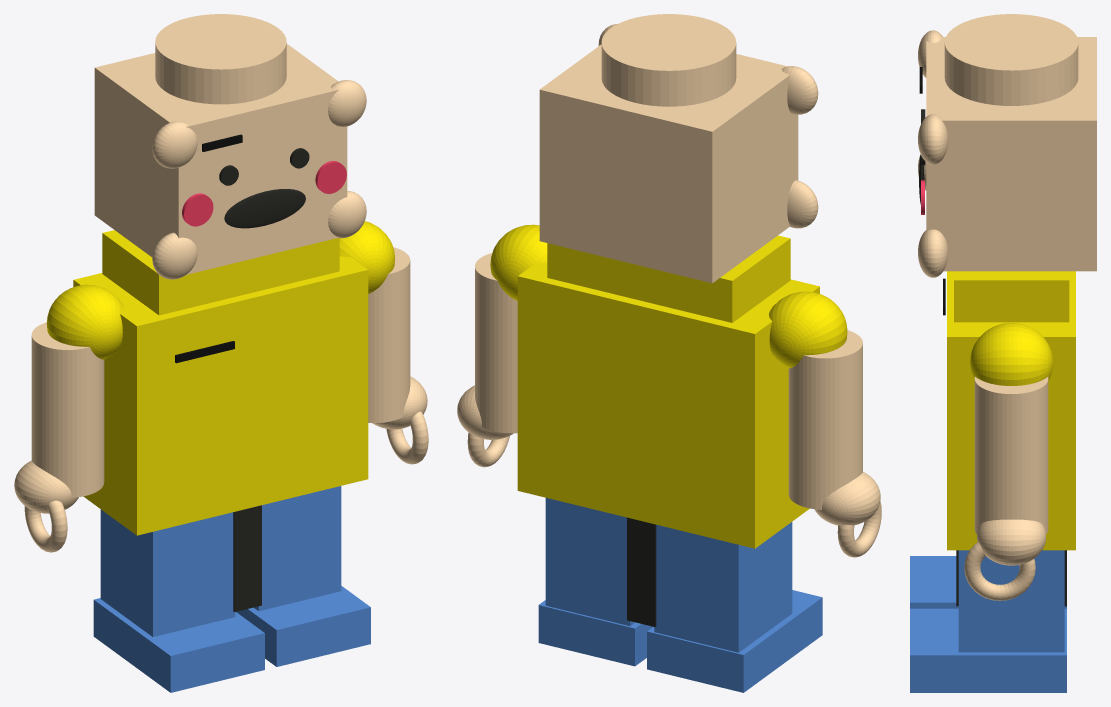
File: minibrick_stylized_plastic_figure.glb
3 renders of one model, left to right at view 1: azimuth 30°, elevation 25°; view 2: azimuth 150°, elevation 25°; view 3: azimuth 270°, elevation 25°, orthographic. The views are drawn at different scales.
Parts seen in each view (by area): view 1: torso_plastic, head_core_plastic, left_leg_plastic, left_arm_plastic, top_head_stud_plastic, shoulder_cap_plastic, left_foot_plastic, right_leg_plastic, right_foot_plastic, right_arm_plastic, left_shoulder_round_plastic, leg_gap_shadow (+12 smaller); view 2: torso_plastic, head_core_plastic, left_leg_plastic, top_head_stud_plastic, left_arm_plastic, shoulder_cap_plastic, right_leg_plastic, left_foot_plastic, right_arm_plastic, left_shoulder_round_plastic, right_foot_plastic, leg_gap_shadow (+7 smaller); view 3: head_core_plastic, torso_plastic, top_head_stud_plastic, right_arm_plastic, right_foot_plastic, right_leg_plastic, shoulder_cap_plastic, right_shoulder_round_plastic, right_wrist_round_plastic, left_foot_plastic, right_claw_hand_plastic, head_corner_soft_2 (+3 smaller).
Boxes of the visible parts, x1,y1,x2,y2 form: torso_plastic: (73, 256, 368, 535); head_core_plastic: (94, 44, 347, 274); left_leg_plastic: (100, 509, 235, 636); left_arm_plastic: (31, 322, 104, 497); top_head_stud_plastic: (155, 14, 286, 104); shoulder_cap_plastic: (102, 230, 339, 315); left_foot_plastic: (93, 598, 264, 692); right_leg_plastic: (254, 486, 341, 611); right_foot_plastic: (236, 586, 370, 666); right_arm_plastic: (368, 247, 410, 423); left_shoulder_round_plastic: (46, 284, 123, 359); leg_gap_shadow: (233, 505, 261, 611); torso_plastic: (517, 262, 819, 548); head_core_plastic: (539, 44, 798, 283); left_leg_plastic: (654, 522, 792, 652); top_head_stud_plastic: (601, 14, 736, 106); left_arm_plastic: (788, 330, 862, 509); shoulder_cap_plastic: (547, 235, 790, 322); right_leg_plastic: (545, 498, 634, 625); left_foot_plastic: (647, 590, 822, 692); right_arm_plastic: (475, 253, 517, 433); left_shoulder_round_plastic: (769, 291, 847, 368); right_foot_plastic: (538, 600, 653, 666); leg_gap_shadow: (627, 517, 656, 626); head_core_plastic: (926, 37, 1096, 271); torso_plastic: (947, 271, 1075, 550); top_head_stud_plastic: (944, 14, 1078, 105); right_arm_plastic: (974, 377, 1048, 533); right_foot_plastic: (910, 608, 1066, 692); right_leg_plastic: (958, 550, 1064, 652); shoulder_cap_plastic: (954, 271, 1069, 322); right_shoulder_round_plastic: (970, 323, 1052, 385); right_wrist_round_plastic: (977, 519, 1045, 565); left_foot_plastic: (910, 556, 1066, 608); right_claw_hand_plastic: (964, 542, 1035, 600); head_corner_soft_2: (918, 114, 948, 164).
Size of the model in its own units: 2.06 by 2.87 by 0.81.
